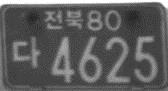0: (105, 9, 121, 32)
2: (105, 35, 132, 85)
4: (49, 35, 75, 82)
5: (132, 34, 158, 84)
6: (77, 35, 102, 82)
8: (87, 9, 103, 32)
다: (12, 35, 41, 70)
전북_O: (43, 8, 83, 31)
